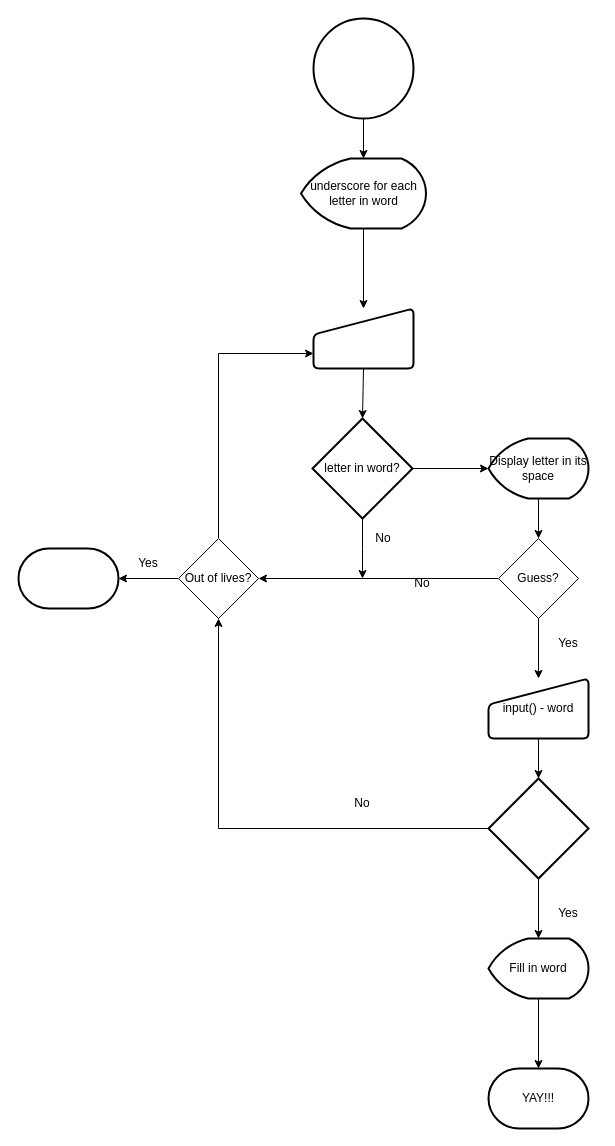
This 615x1146 diagram has some shape labels left out. The shapes that lost their labels are listed below. From the top down, each one's centre as x and y in pixels, then its label:
point (363, 68): Pick random word
point (363, 338): input() one character
point (68, 578): Game over
point (538, 828): Correct?
